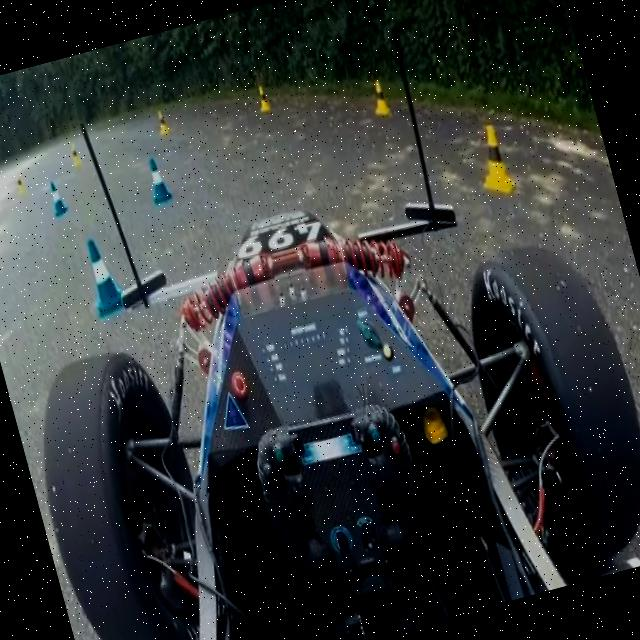blue_cone: (78, 233, 128, 317), (143, 154, 174, 206), (44, 180, 68, 217)
yellow_cone: (469, 122, 516, 200), (368, 78, 392, 118), (253, 83, 271, 113), (154, 108, 171, 136)
